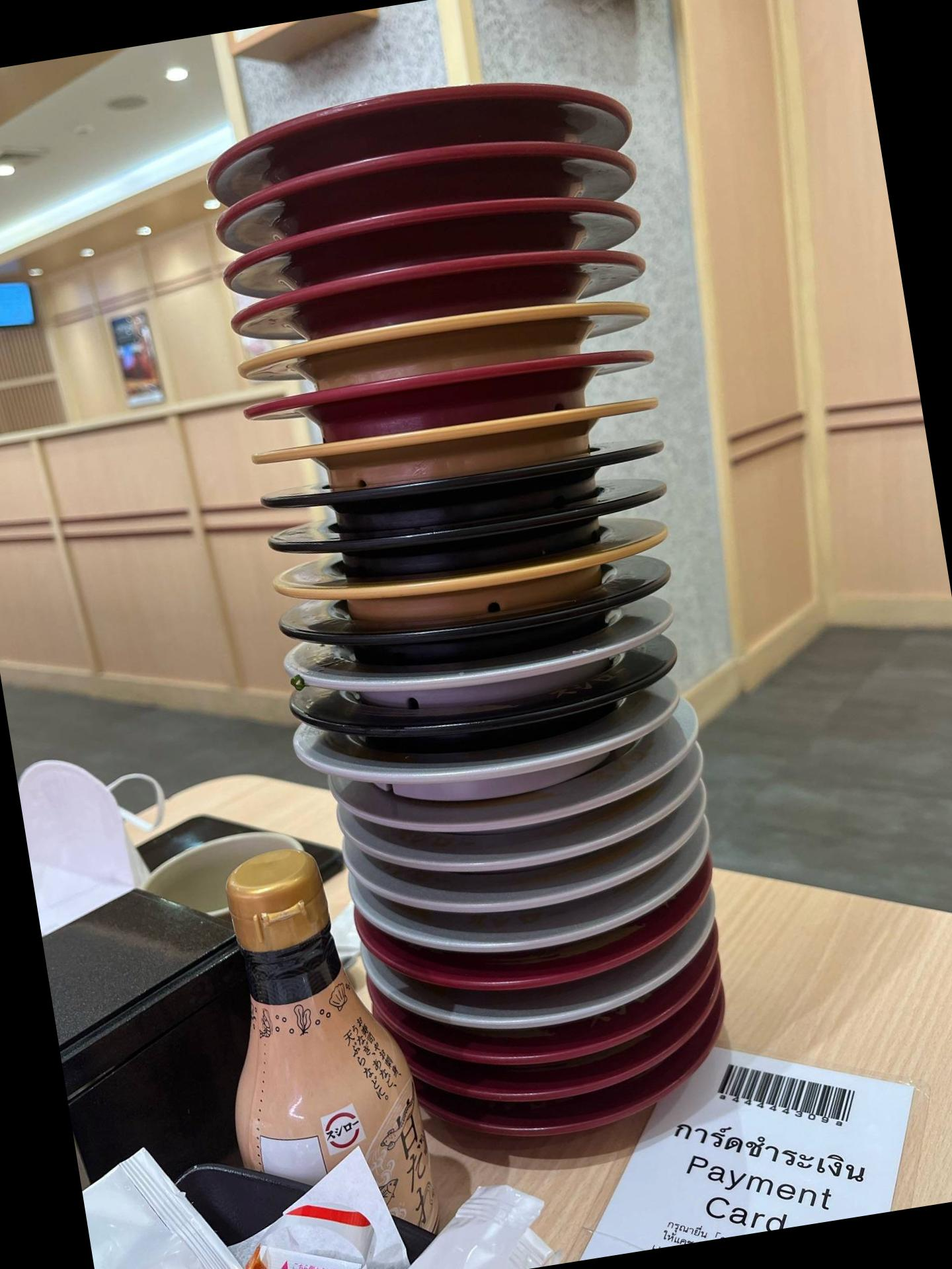Janback: (284, 440, 664, 543), (302, 487, 669, 584), (320, 583, 673, 671), (321, 675, 676, 758)
Jangold: (254, 290, 633, 396), (272, 398, 663, 499), (313, 535, 670, 634)
Janred: (202, 54, 653, 185), (228, 114, 652, 231), (249, 173, 656, 286), (271, 338, 676, 444), (263, 226, 636, 339), (445, 930, 672, 991), (461, 1047, 663, 1103), (457, 1012, 666, 1064), (481, 1086, 671, 1142)
Janwhite: (337, 633, 650, 713), (375, 760, 679, 842), (362, 720, 648, 802), (398, 802, 676, 880), (427, 966, 688, 1033), (422, 851, 671, 920), (445, 885, 665, 945)
